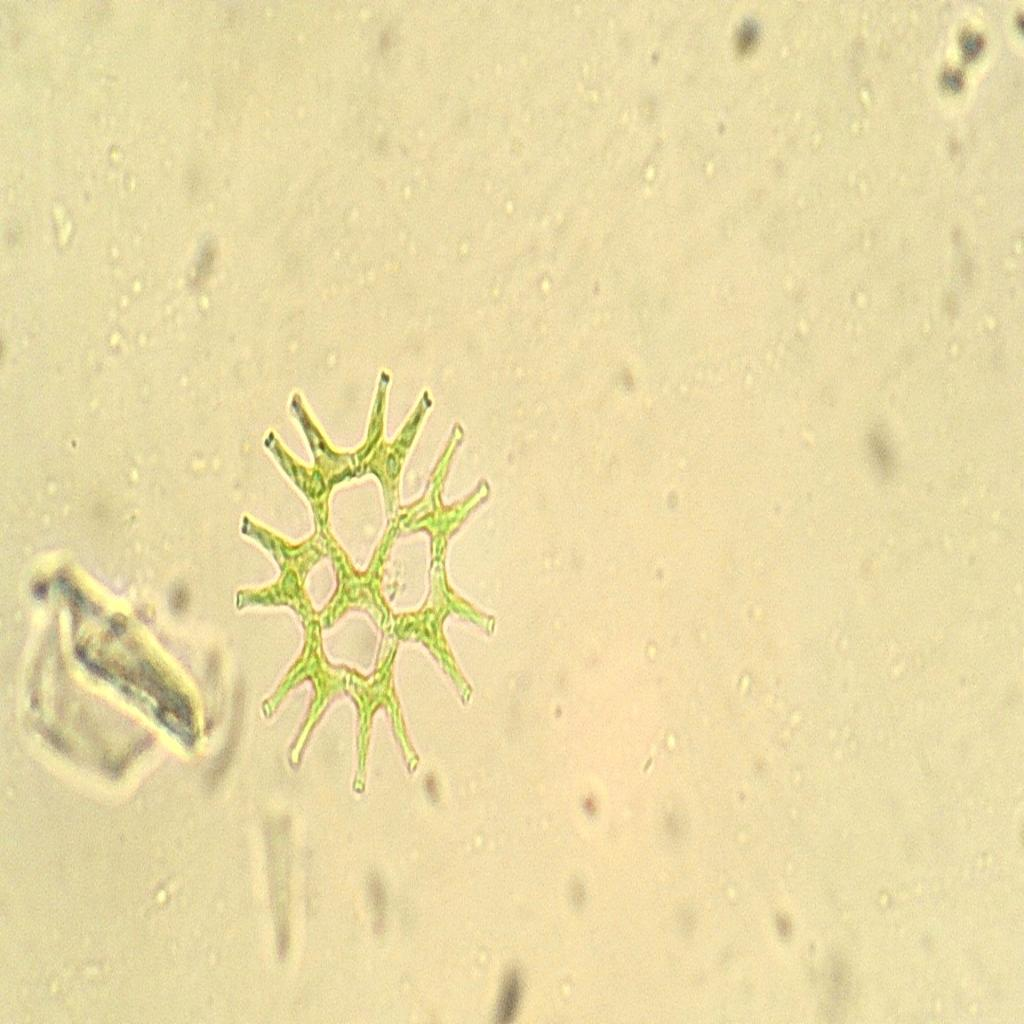Pediastrum_75T: (217, 342, 504, 820)
